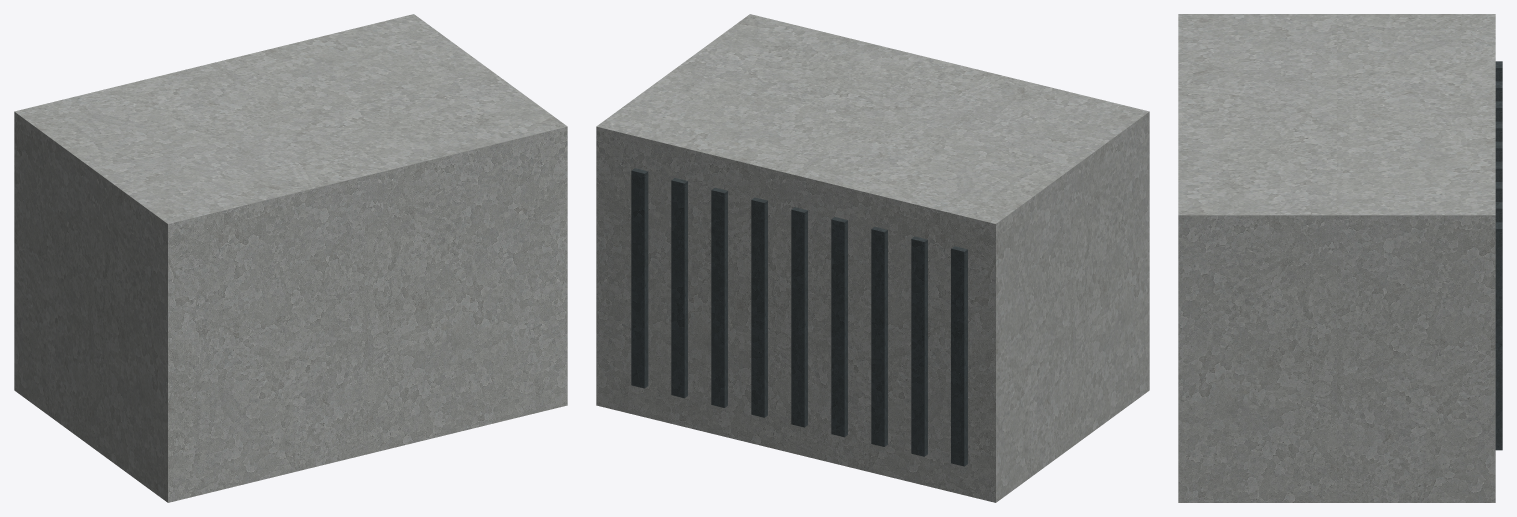
File: rooftop_hvac.glb
3 renders of one model, left to right at view 1: azimuth 30°, elevation 25°; view 2: azimuth 150°, elevation 25°; view 3: azimuth 270°, elevation 25°, orthographic. The views are drawn at different scales.
Visible parts, largest first — view 1: rooftop_hvac; view 2: rooftop_hvac; view 3: rooftop_hvac.
Boxes of the visible parts, x1,y1,x2,y2 form: rooftop_hvac: (14,14,567,502); rooftop_hvac: (596,14,1149,502); rooftop_hvac: (1178,14,1502,502).
Bounding box in the file's own units: 1.5 × 1 × 1.02.
